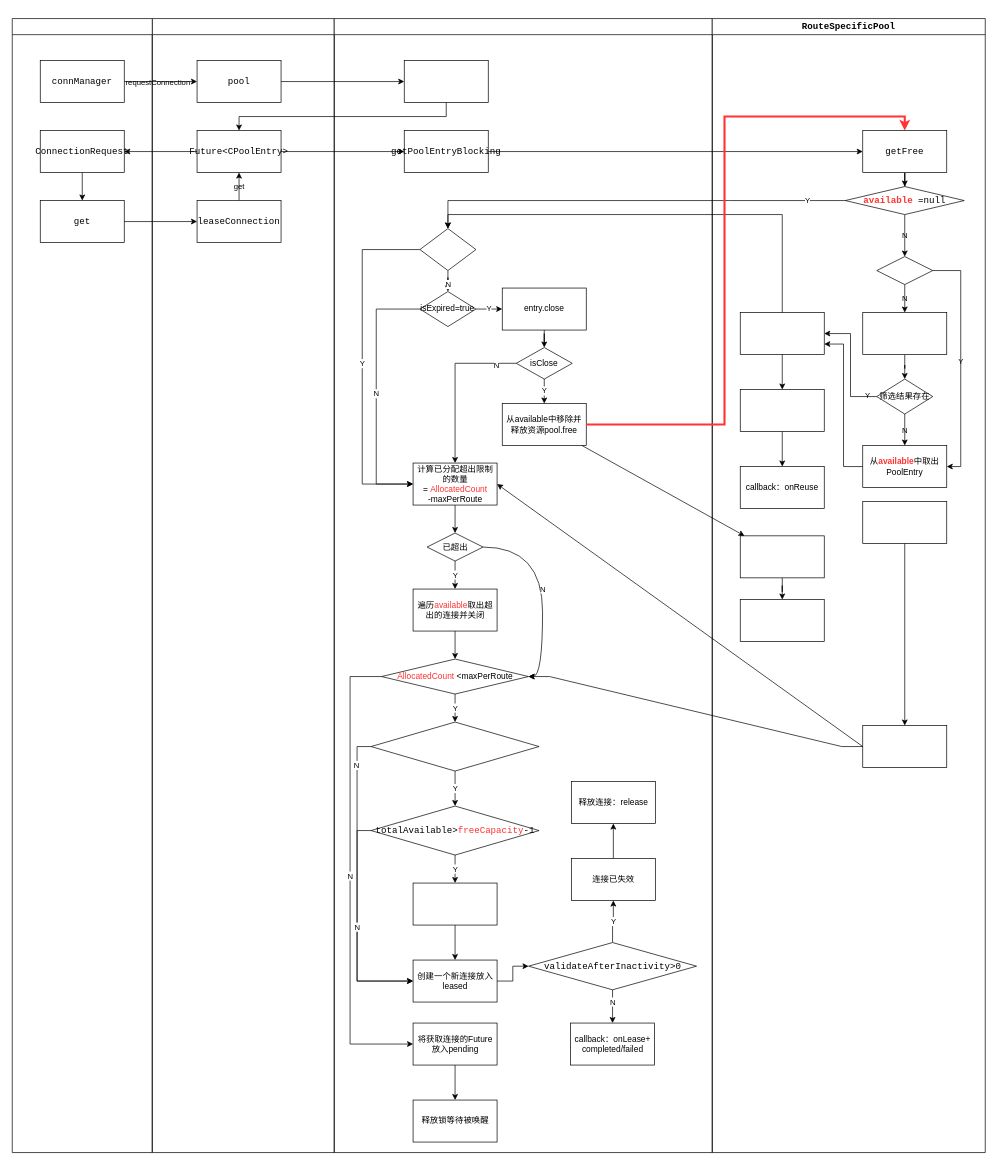
Some shapes in this 998 by 1165 pixel diagram are drawn without their labels. The shapes that lost their labels are listed below. From the top down, each one's box as (x1, y1, x2, y2) in pixels, then its label:
(404, 60, 488, 103): lease
(419, 228, 476, 271): PoolEntry=null
(876, 256, 933, 285): state = null
(740, 312, 824, 355): 从 available 中取出的PoolEntry
(862, 312, 947, 355): 从 available 中取出PoolEntry：按照state筛选
(740, 389, 824, 432): 连接添加至 leased
(862, 501, 947, 544): getAllocatedCount
(740, 535, 824, 578): 从 leased 中移除资源
(12, 18, 152, 1153): MainClientExec
(152, 18, 334, 1153): PoolingHttpClientConnectionManager
(334, 18, 712, 1153): CPool
(740, 599, 824, 642): 如果资源不存在抛出异常（Entry %s has not been leased from this pool ）
(370, 721, 539, 771): maxTotal-totalUsed>0即 freeCapacity >0
(862, 725, 947, 768): AllocatedCount =（available+leased）
(412, 882, 497, 925): 释放一个available连接
